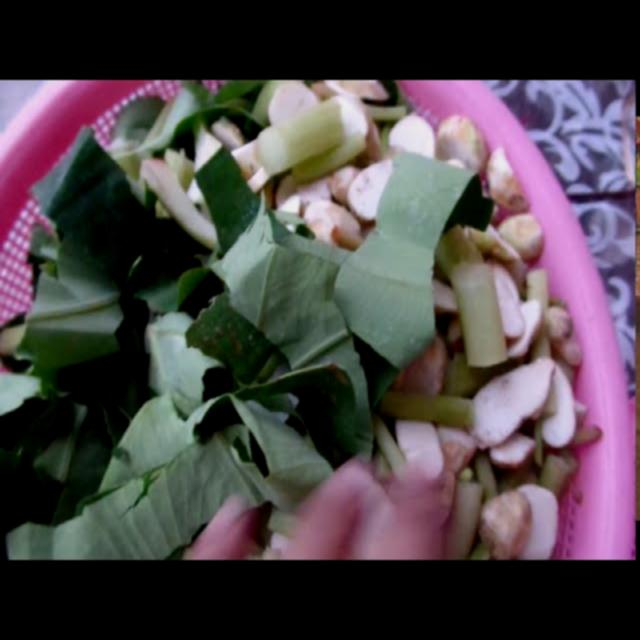Taro Leaves: (65, 98, 576, 514), (34, 101, 474, 557)
